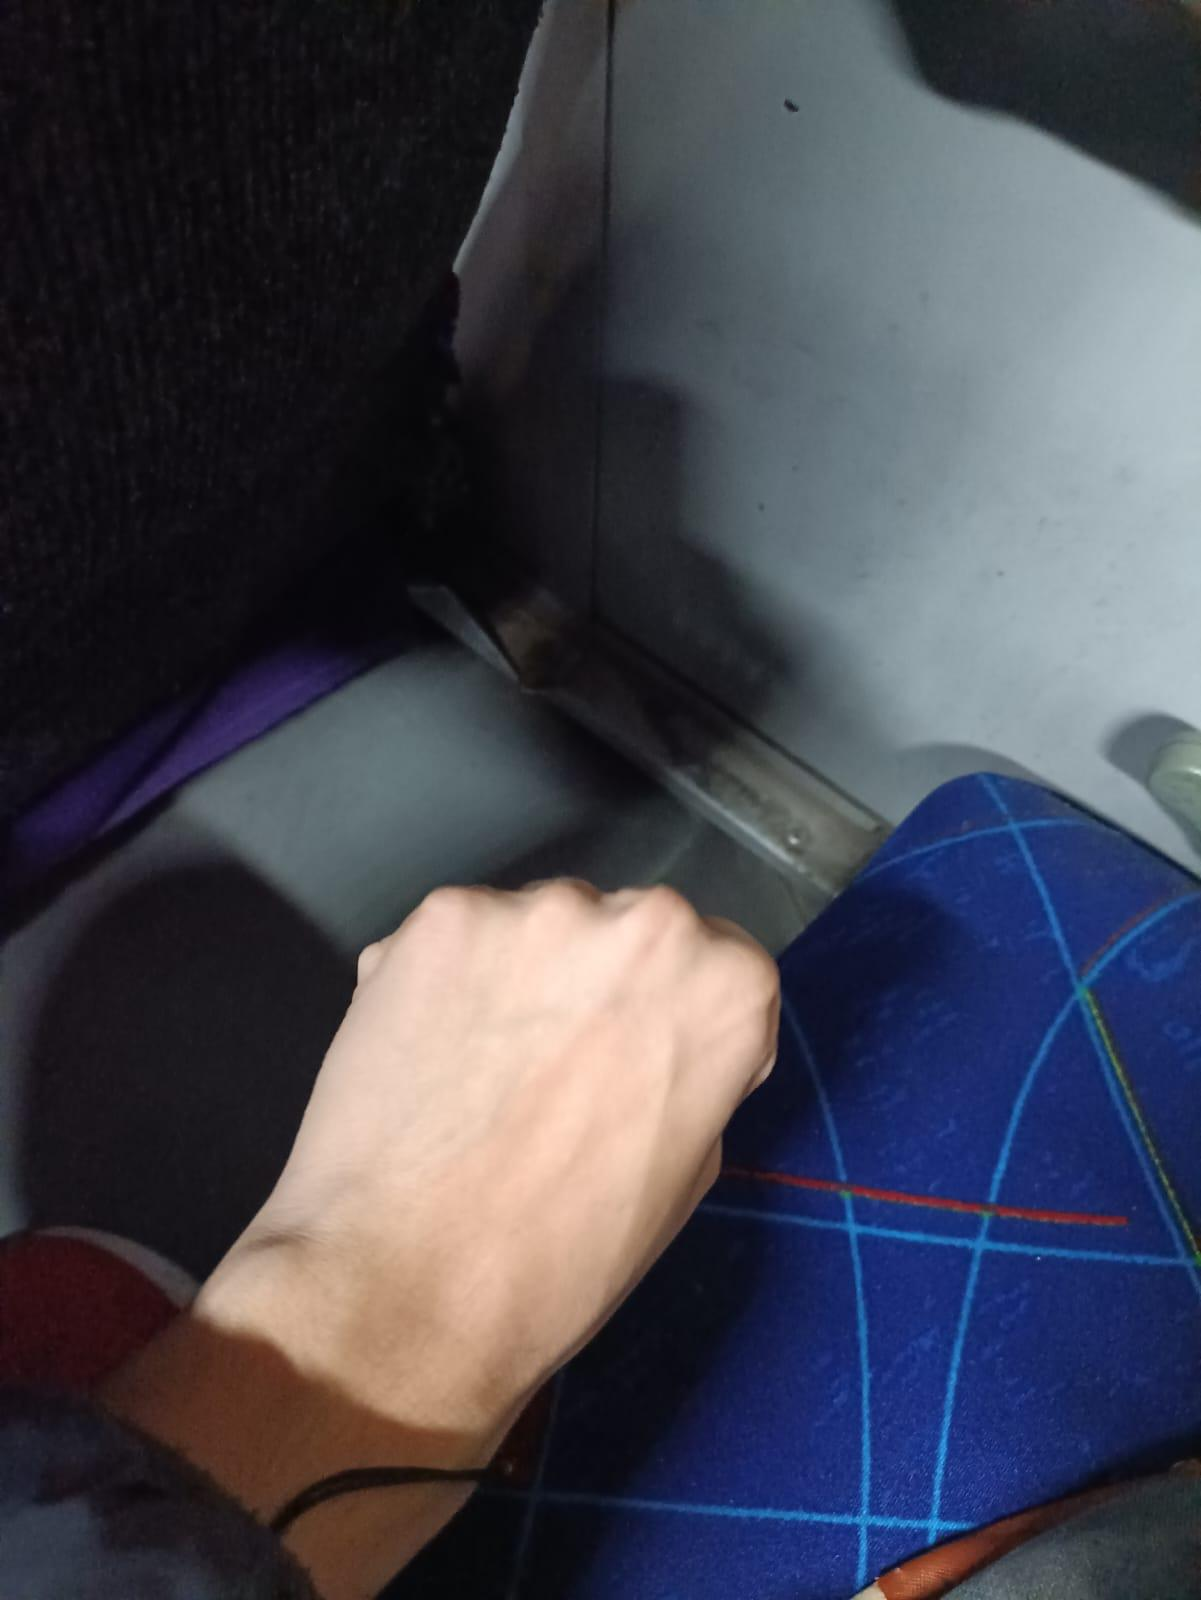Stone: (63, 790, 930, 1587)
